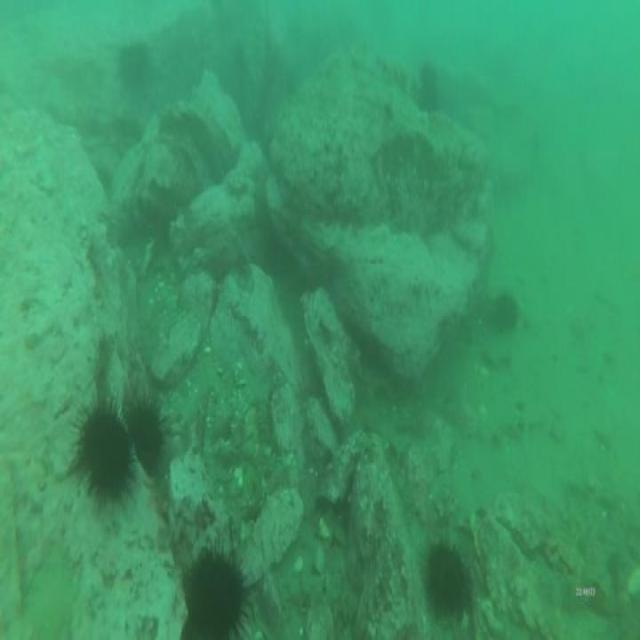echinus: (69, 386, 139, 514), (182, 531, 257, 640), (419, 536, 473, 627), (122, 389, 170, 482), (115, 36, 152, 95), (488, 286, 521, 343), (416, 58, 441, 106)
